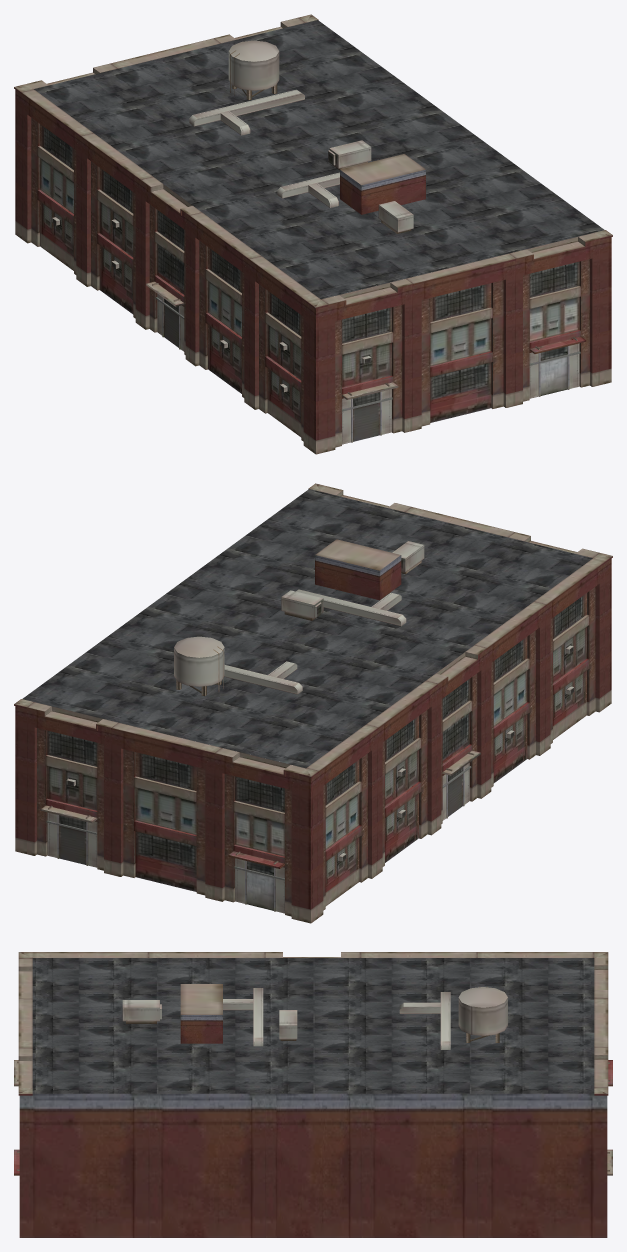
Rendered from ind-building-1.lod1.glb.
3 views of the same model, one above another, from view 1: azimuth 30°, elevation 25°; view 2: azimuth 150°, elevation 25°; view 3: azimuth 270°, elevation 25° (orthographic). The views are drawn at different scales.
Visible parts, largest first — view 1: Industrial_Building_1_Industrial_Facade_Flr_1_0, Industrial_Building_1_Industrial_Roof_1_0; view 2: Industrial_Building_1_Industrial_Facade_Flr_1_0, Industrial_Building_1_Industrial_Roof_1_0; view 3: Industrial_Building_1_Industrial_Facade_Flr_1_0, Industrial_Building_1_Industrial_Roof_1_0.
Part boxes in pixels (box(x1,y1,x2,y2)): Industrial_Building_1_Industrial_Facade_Flr_1_0: box(14, 14, 612, 454); Industrial_Building_1_Industrial_Roof_1_0: box(34, 20, 604, 299); Industrial_Building_1_Industrial_Facade_Flr_1_0: box(14, 483, 612, 923); Industrial_Building_1_Industrial_Roof_1_0: box(22, 489, 592, 768); Industrial_Building_1_Industrial_Facade_Flr_1_0: box(14, 952, 612, 1237); Industrial_Building_1_Industrial_Roof_1_0: box(32, 958, 594, 1093).
Size of the model in its own units: 27.02 by 16.63 by 47.54.
Materials: 2 (2 with a texture image).
